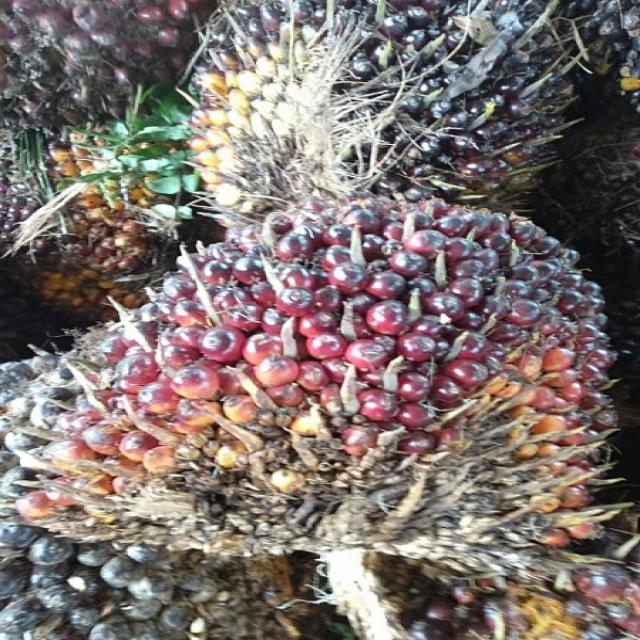fraksi 1: (0, 170, 640, 596)
